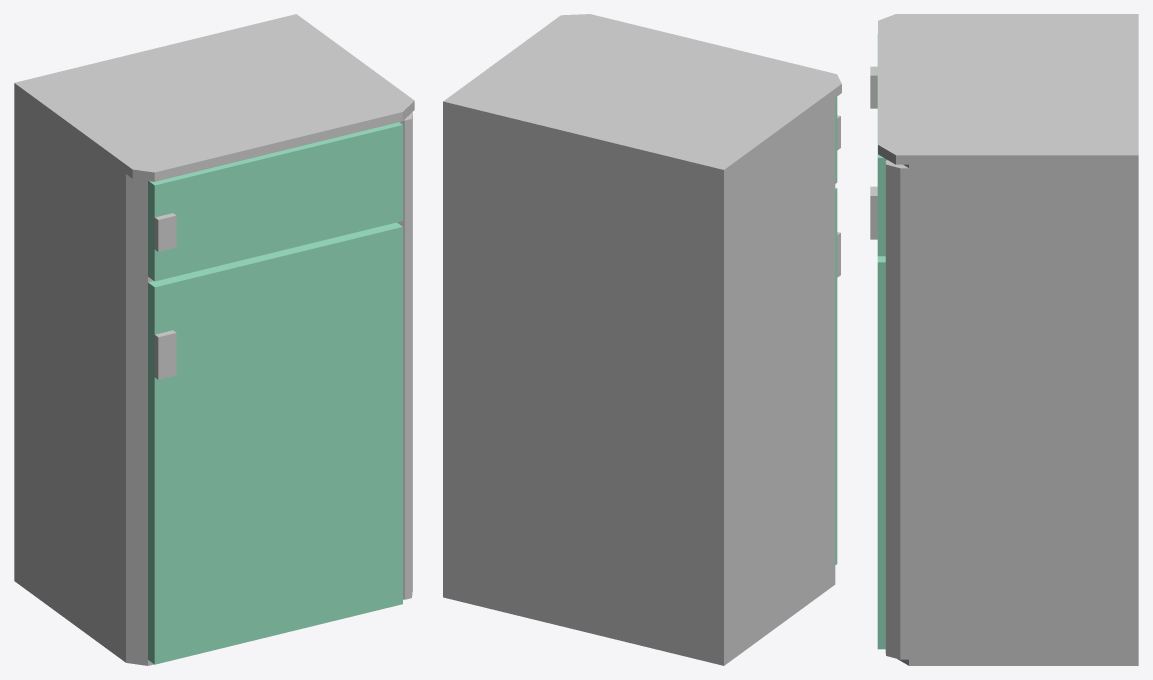
File: Refrigerator.fbx
3 renders of one model, left to right at view 1: azimuth 30°, elevation 25°; view 2: azimuth 150°, elevation 25°; view 3: azimuth 270°, elevation 25°, orthographic. The views are drawn at different scales.
Parts seen in each view (by area): view 1: Cube.006; view 2: Cube.006; view 3: Cube.006.
Part boxes in pixels (left/top/right/bottom): Cube.006: left=14, top=14, right=414, bottom=665; Cube.006: left=443, top=14, right=841, bottom=665; Cube.006: left=870, top=14, right=1138, bottom=665.
Size of the model in its own units: 184 by 311 by 148.
